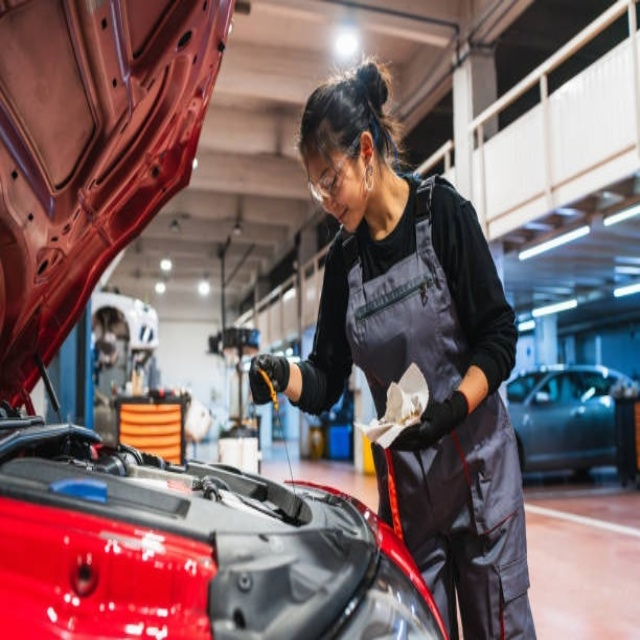Gafas: (308, 144, 358, 205)
Guantes: (394, 390, 469, 451), (248, 352, 291, 404)
Sin_mascara: (330, 201, 356, 232)
